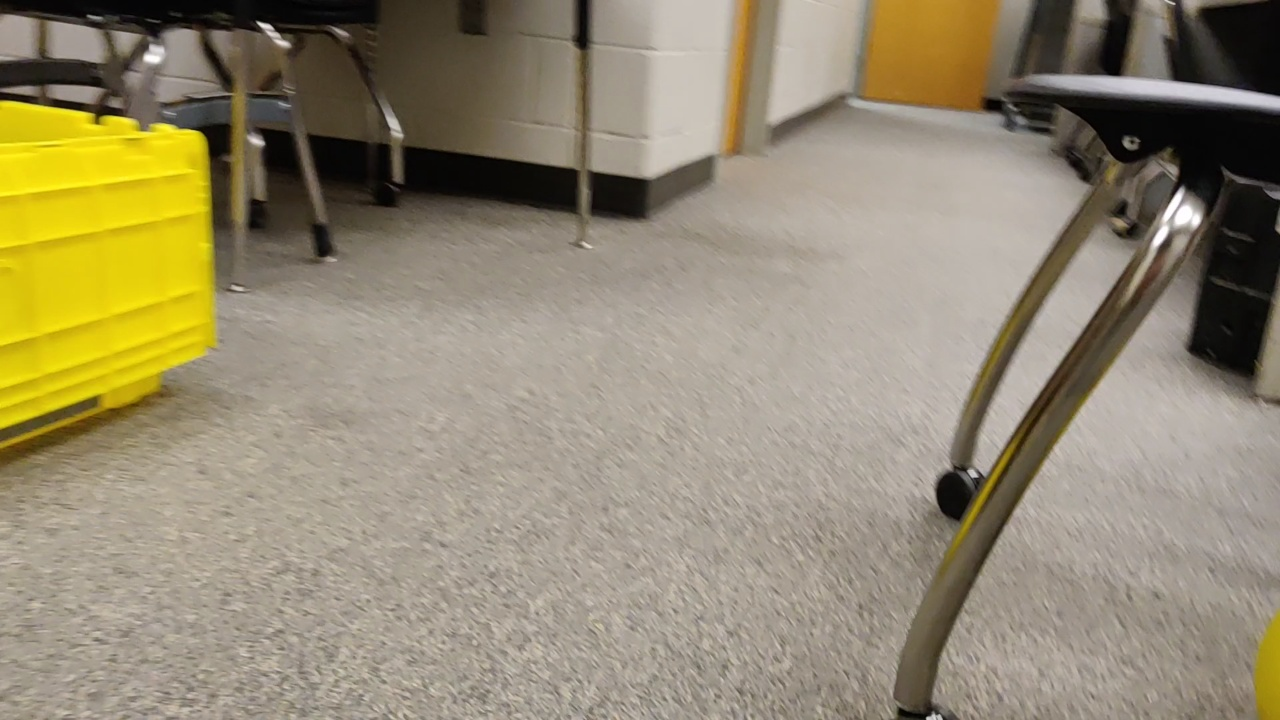Ball: (1252, 616, 1276, 720)
